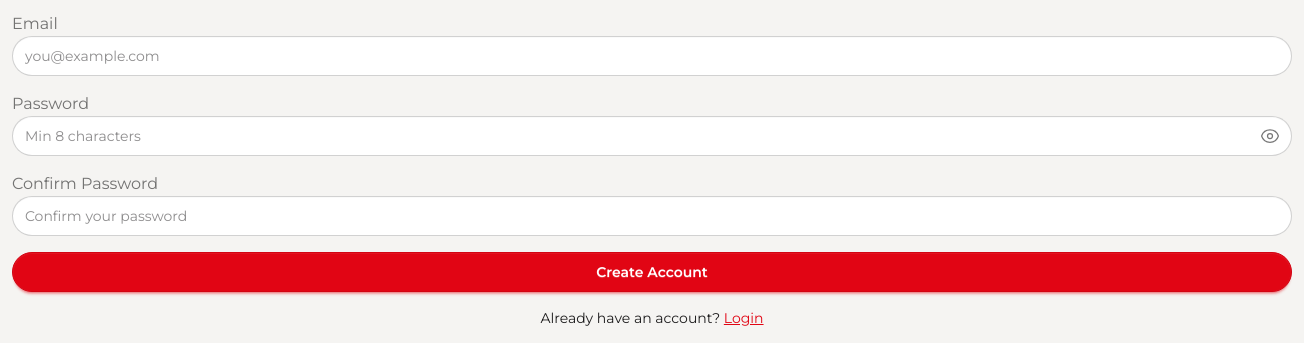
Test: RegisterForm › should show loading state during submission
In the field labelled "Email": {"x": 652, "y": 56} [12,36,1292,76], type "test@example.com"
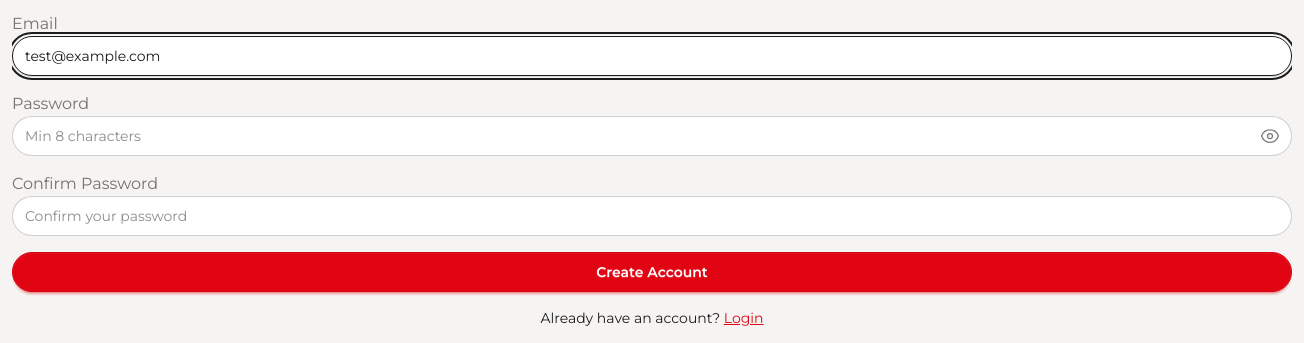
In the password field labelled "Password": {"x": 652, "y": 136} [12,116,1292,156], type "password123"
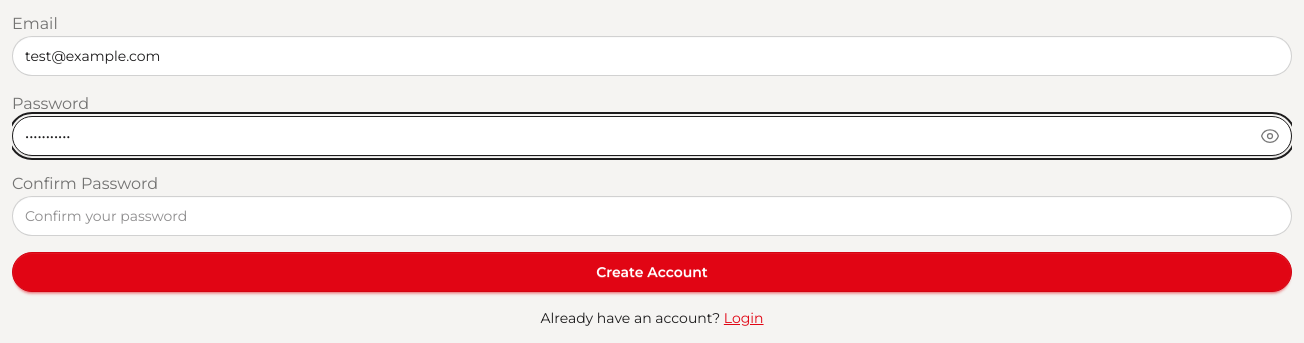
In the password field labelled "Confirm Password": {"x": 652, "y": 216} [12,196,1292,236], type "password123"
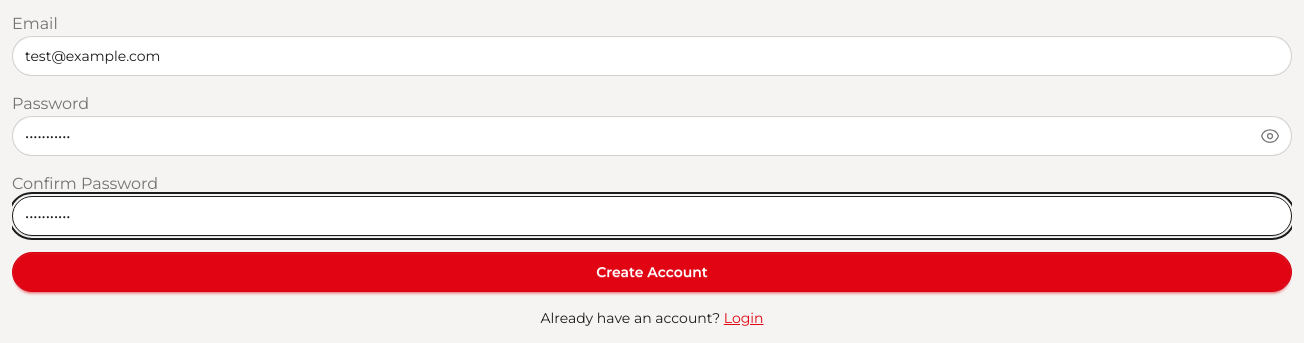
Click the button "Create Account": {"x": 652, "y": 272} [12,252,1292,292]
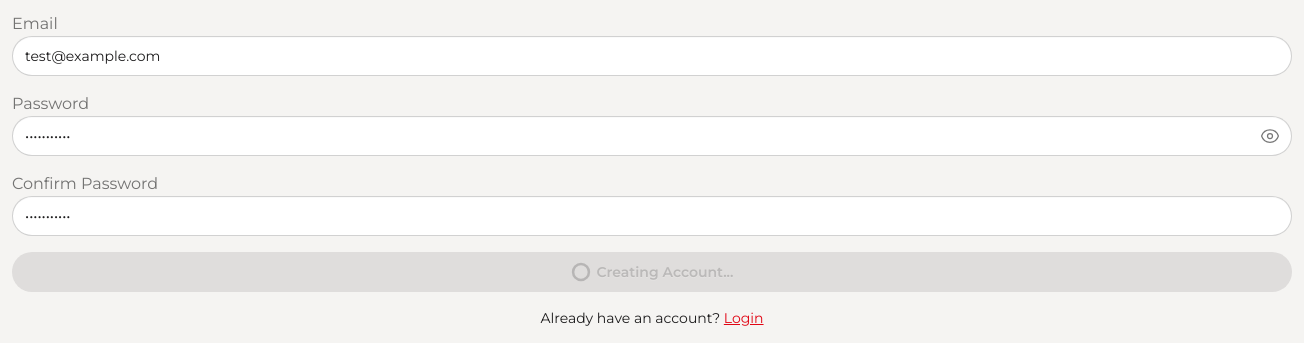
Now the button "Creating Account..." is shown, box [12,252,1292,292]
